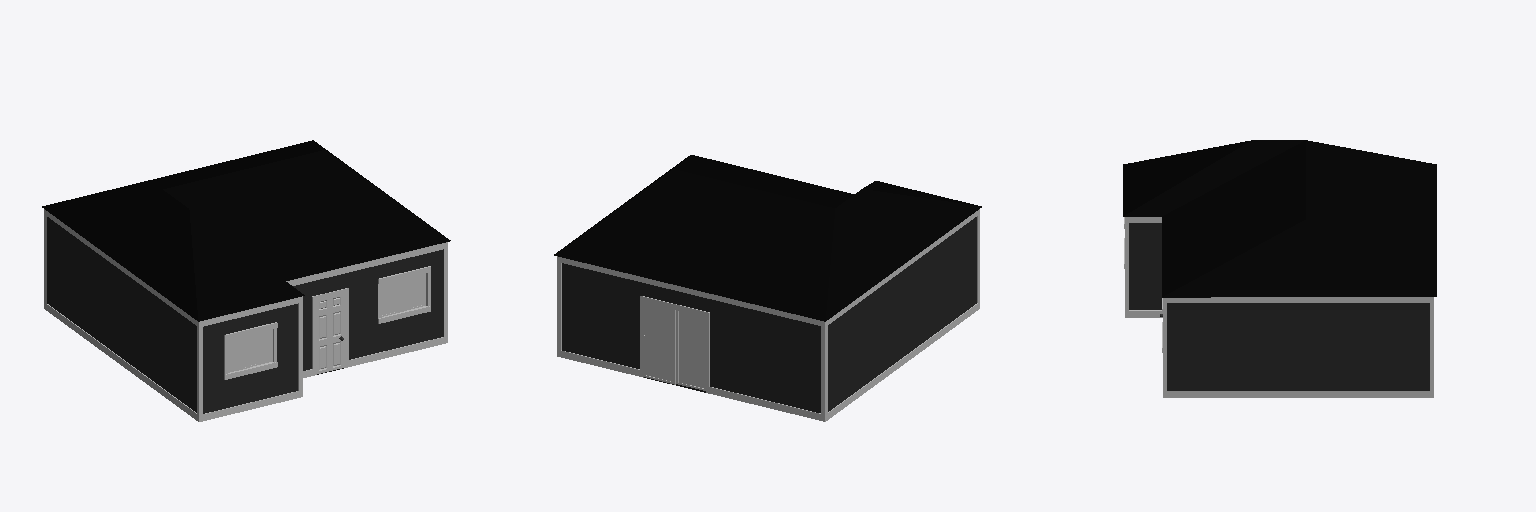
Rendered from Housetriangle.obj.
3 renders of one model, left to right at view 1: azimuth 30°, elevation 25°; view 2: azimuth 150°, elevation 25°; view 3: azimuth 270°, elevation 25°, orthographic.
Visible parts, largest first — view 1: Vert, Cube, Vert.004, Vert.003; view 2: Vert, Vert.002; view 3: Vert.
Boxes of the visible parts, x1,y1,x2,y2 form: Vert: [42, 140, 450, 421]; Cube: [316, 293, 344, 374]; Vert.004: [250, 329, 272, 366]; Vert.003: [404, 273, 425, 310]; Vert: [554, 155, 981, 421]; Vert.002: [644, 302, 675, 384]; Vert: [1123, 140, 1436, 397].
Bounding box in the file's own units: 16.55 × 8.9 × 16.55.